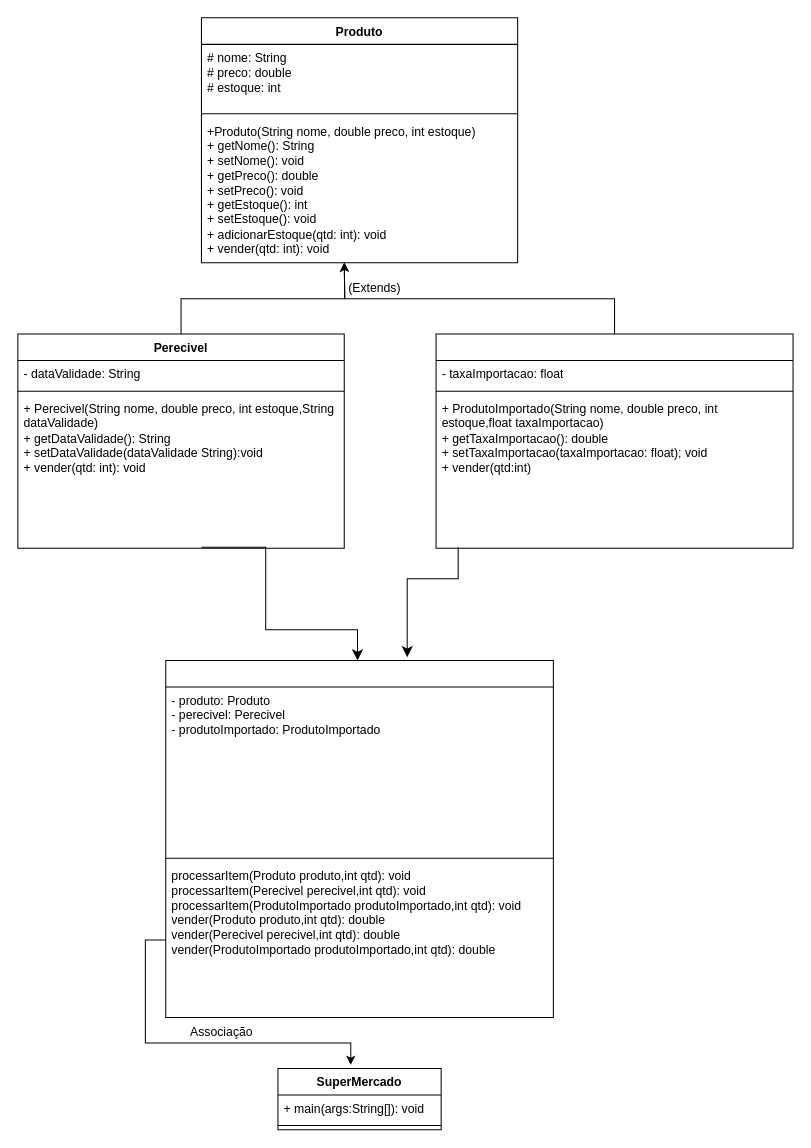
Image size: 811x1148. Some labels were removed from this diagram. The box of each missing label's shape, as (x1, y1, x2, y2) in pixels:
Classname: (435, 333, 793, 548)
Venda: (165, 659, 553, 1017)
